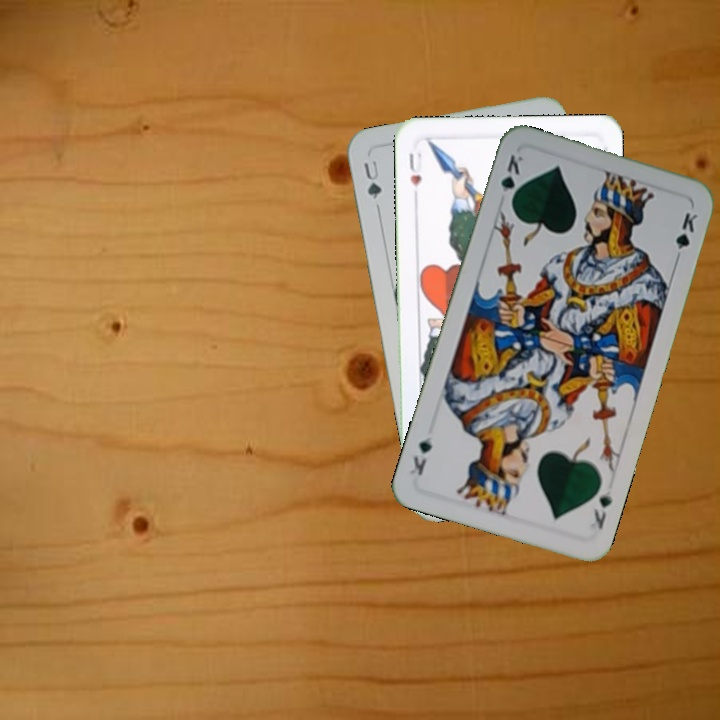GK: (496, 150, 526, 208), (589, 486, 615, 532)
GU: (359, 156, 385, 202)
HU: (404, 147, 425, 189)
